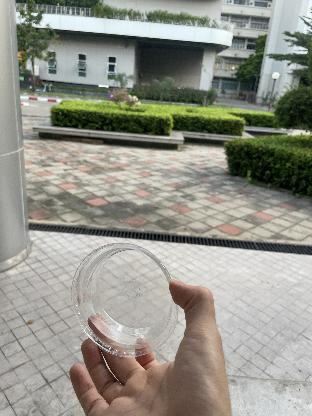Plastic Cup: (69, 230, 182, 364)
